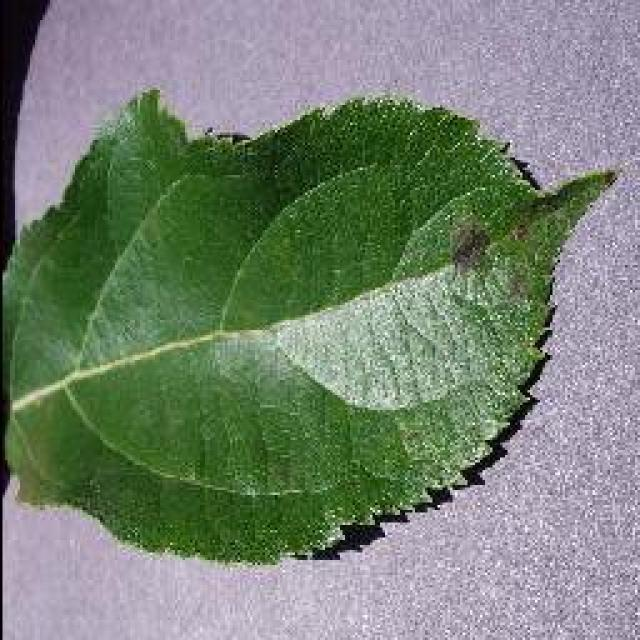apple scab disease: (0, 82, 618, 568)
